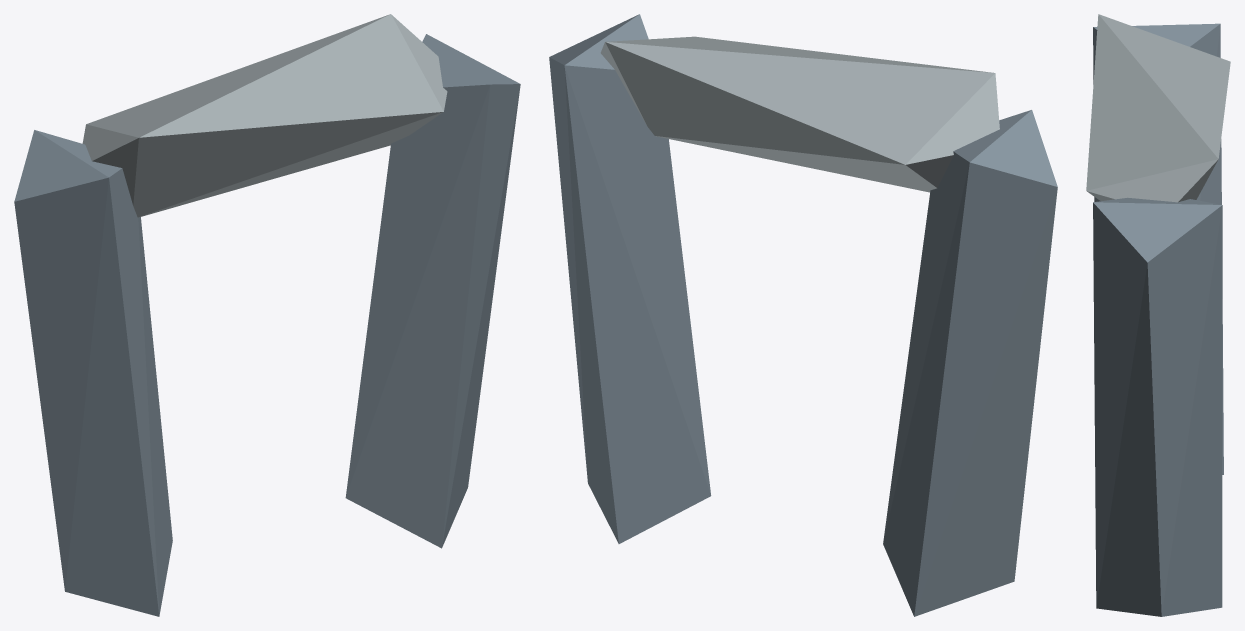
The model's file is Rock_04_LOD2.fbx.
3 views of the same model, side by side, from view 1: azimuth 30°, elevation 25°; view 2: azimuth 150°, elevation 25°; view 3: azimuth 270°, elevation 25° (orthographic). The views are drawn at different scales.
Visible parts, largest first — view 1: Rock_04_LOD2; view 2: Rock_04_LOD2; view 3: Rock_04_LOD2.
Boxes of the visible parts, bbox=[...] form: Rock_04_LOD2: bbox=[14, 14, 520, 616]; Rock_04_LOD2: bbox=[549, 14, 1057, 616]; Rock_04_LOD2: bbox=[1086, 14, 1230, 616].
Bounding box in the file's own units: 232 × 214 × 61.63.
